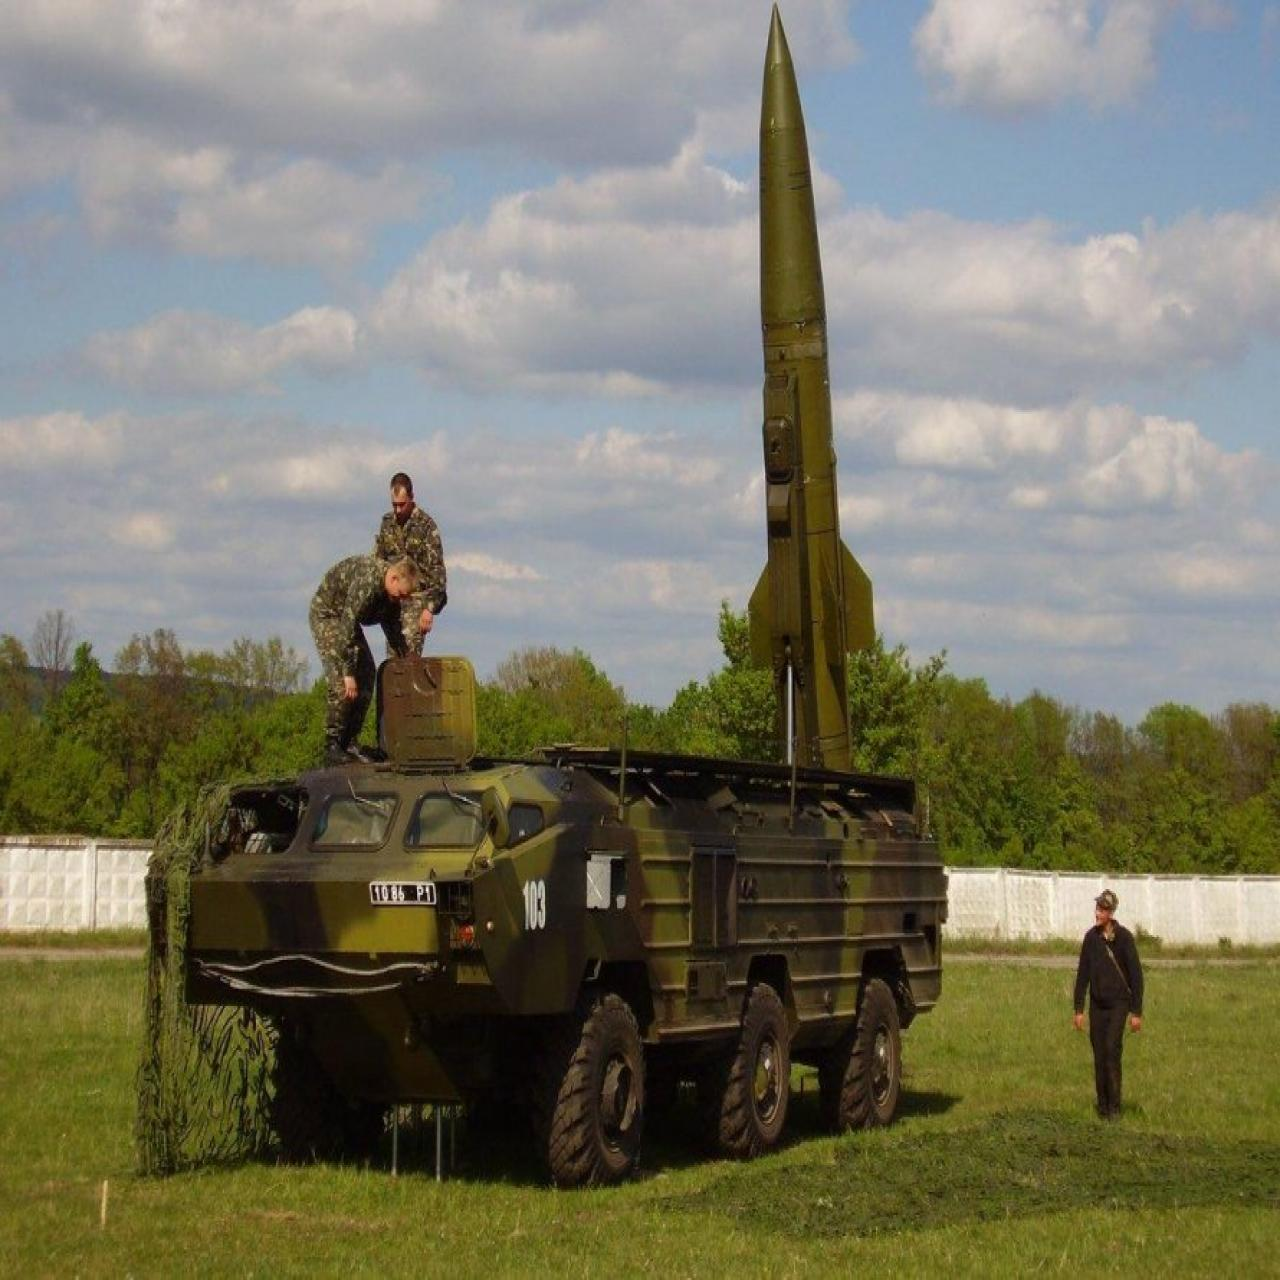MIL_Veh: (152, 0, 953, 1183)
